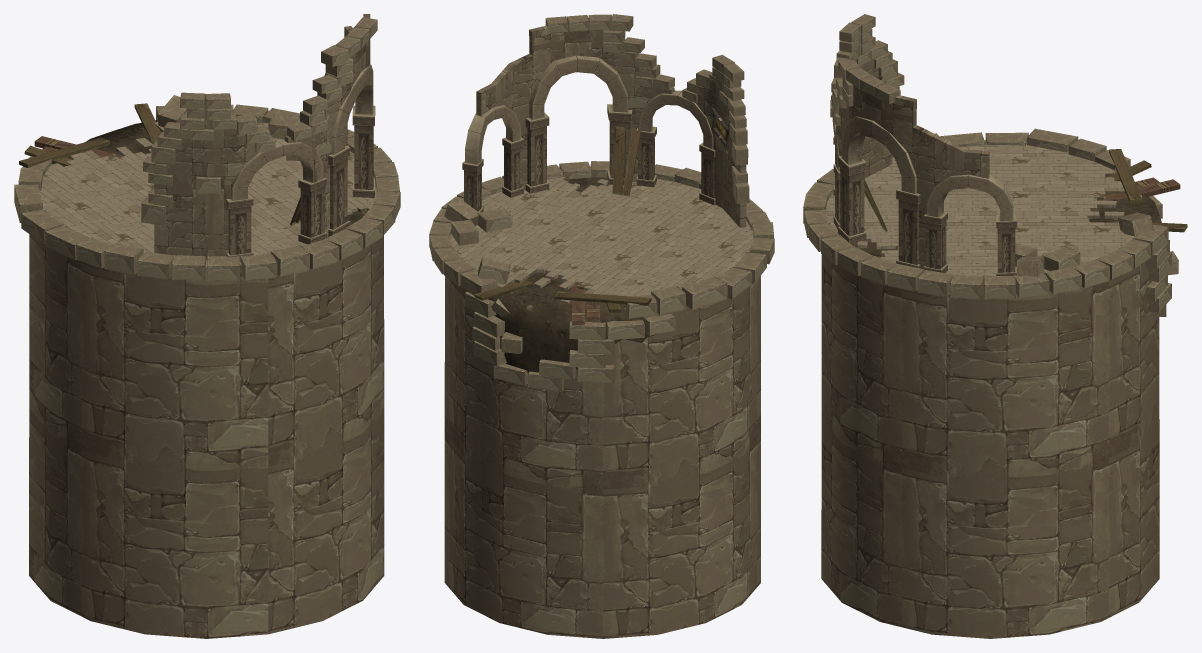
Rendered from bfcs_yuantai_02.FBX.
The picture shows the model from 3 angles, left to right: view 1: azimuth 30°, elevation 25°; view 2: azimuth 150°, elevation 25°; view 3: azimuth 270°, elevation 25°; orthographic projection. The views are drawn at different scales.
Parts seen in each view (by area): view 1: bfcs_yuantai_02; view 2: bfcs_yuantai_02; view 3: bfcs_yuantai_02.
Boxes of the visible parts, x1,y1,x2,y2 form: bfcs_yuantai_02: [14, 14, 400, 638]; bfcs_yuantai_02: [429, 14, 774, 638]; bfcs_yuantai_02: [803, 14, 1187, 638].
Size of the model in its own units: 561 by 885 by 585.
